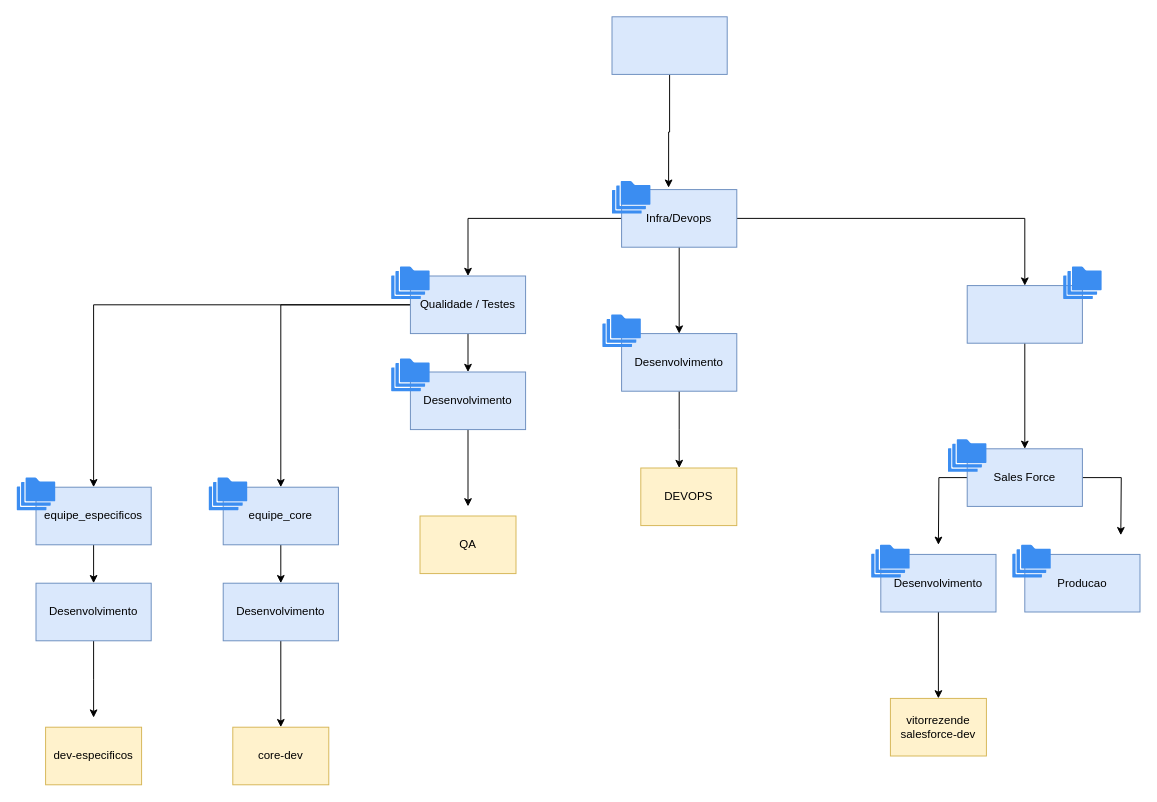
This 1157x802 diagram has some shape labels left out. Here are the shapes that lost their labels. From the top down, the centre of each, then its label:
At pixel 669 45: "vitorrezende".
At pixel 1024 314: "Financeira".
